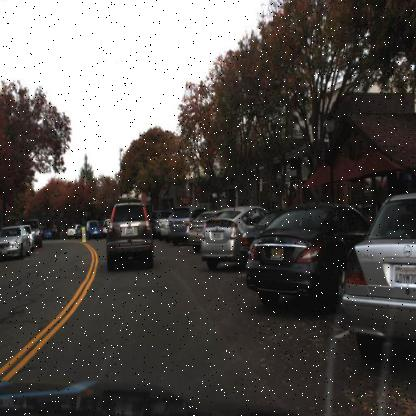car: (244, 201, 371, 313), (345, 190, 415, 361), (100, 198, 157, 277), (198, 206, 263, 268), (238, 211, 276, 266), (165, 206, 194, 244), (0, 224, 29, 260), (189, 211, 210, 252), (171, 207, 191, 240), (159, 214, 173, 243), (159, 214, 173, 238), (86, 218, 102, 238), (67, 223, 81, 238)
